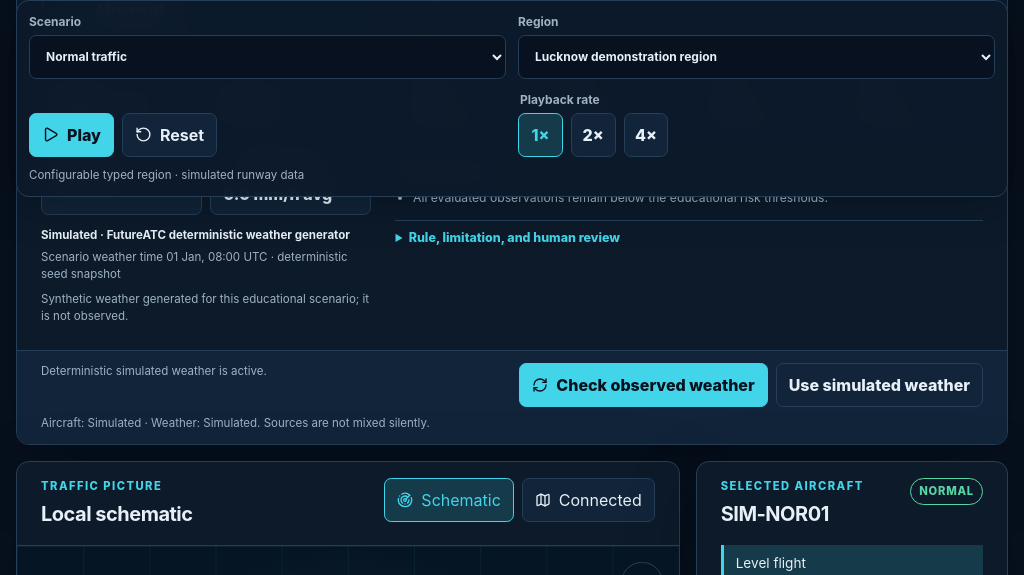
Test: weather provider integration › ignores a weather response that completes after a scenario change
(page scrolled)
Click the button "Check observed weather".
click(644, 385)  # box x1=519 y1=363 x2=768 y2=407
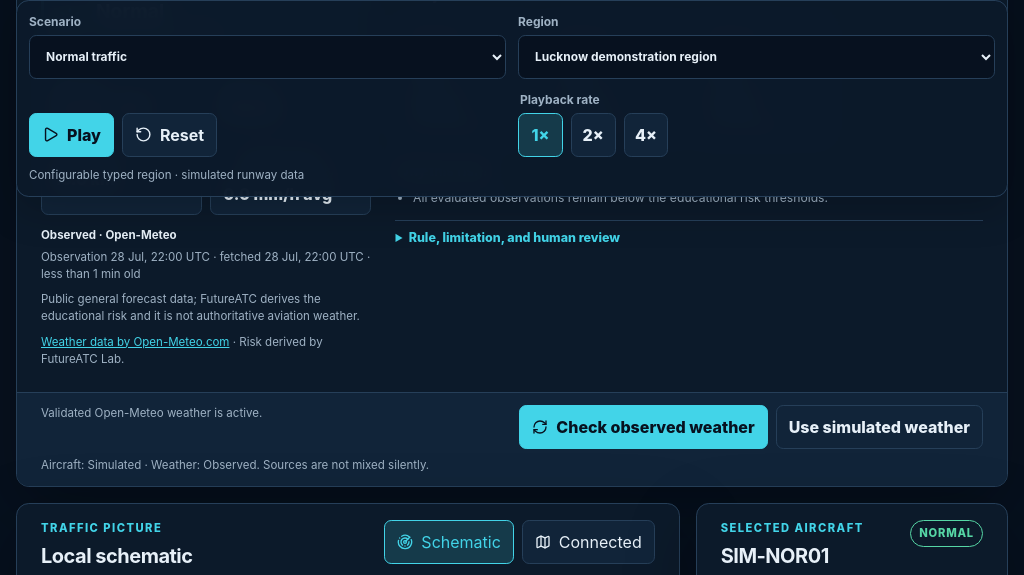
Select "Severe weather" in the dropdown labelled "Scenario" at (268, 57), box x1=29 y1=35 x2=506 y2=79
(page scrolled)
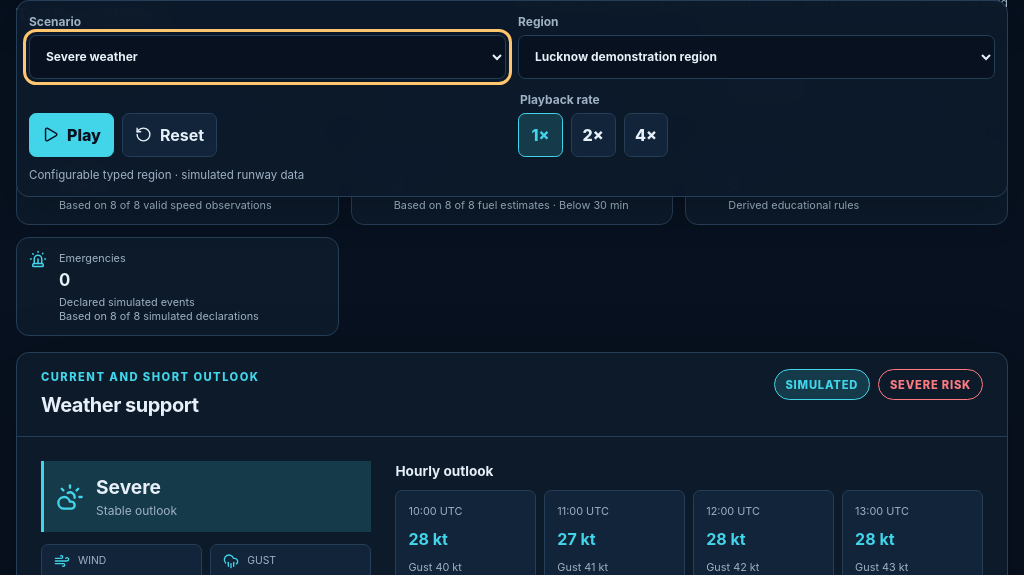
Now the text "Severe risk" is shown, box x1=878 y1=370 x2=983 y2=400
